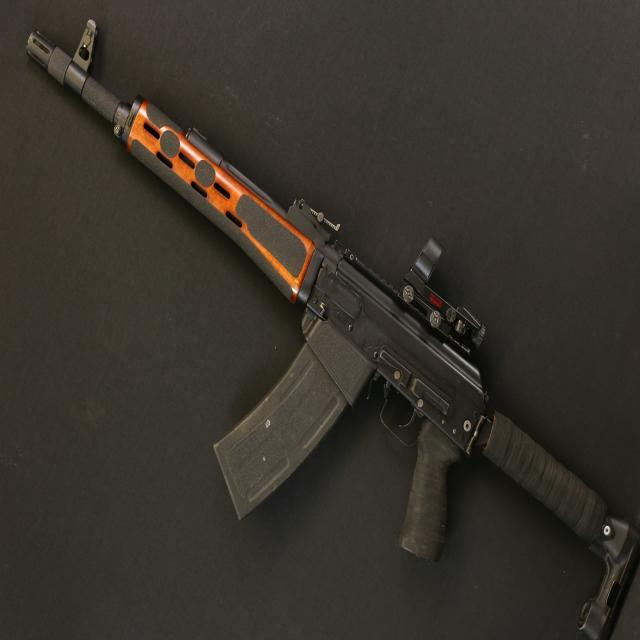weapon: (24, 16, 638, 640)
